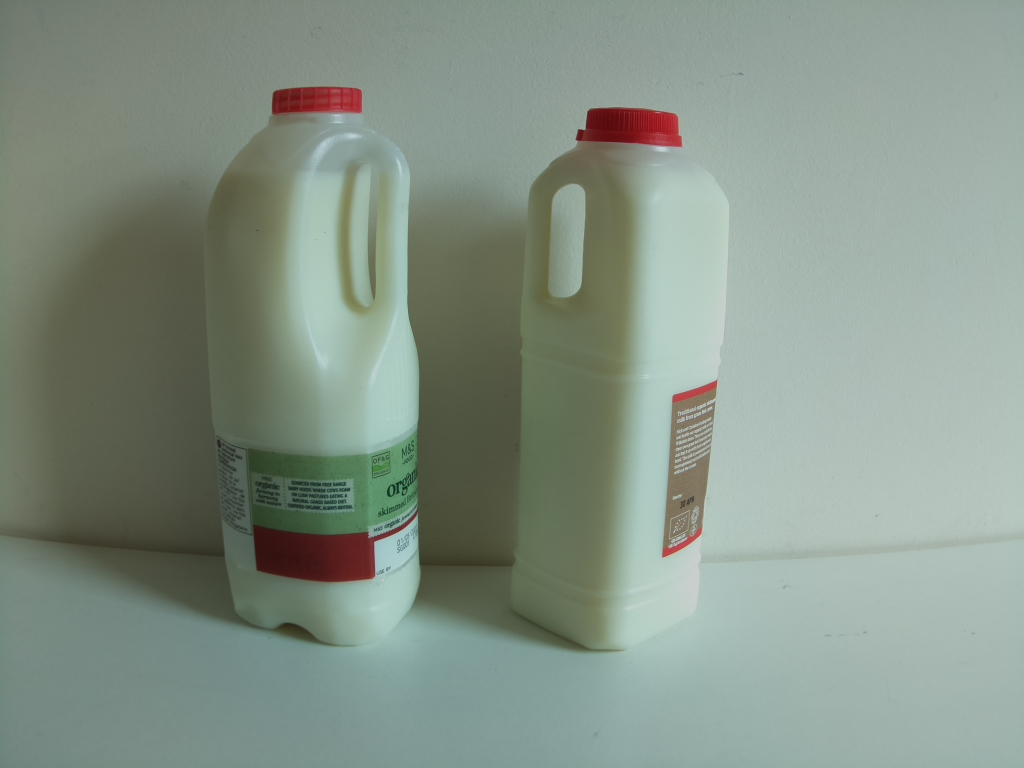milk: (501, 101, 736, 659), (201, 80, 429, 652)
